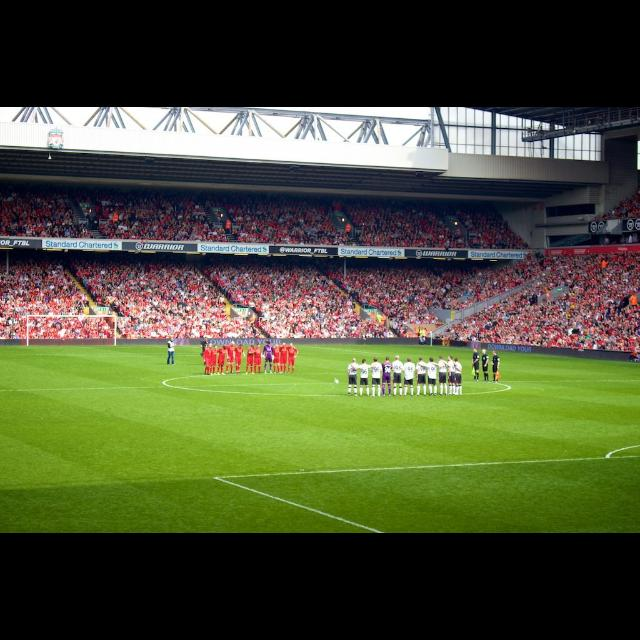Football: (334, 378, 336, 382)
